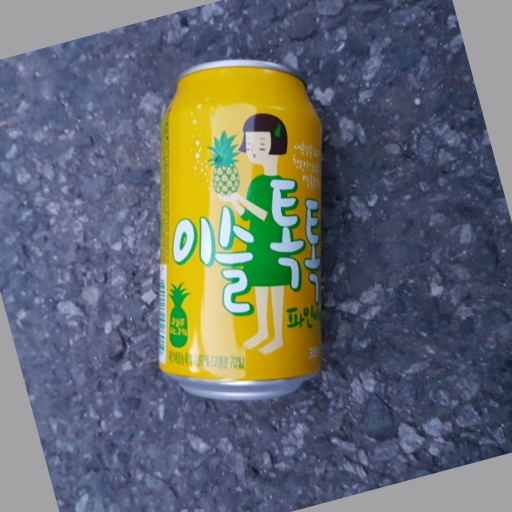Metal_0: (141, 56, 336, 407)
